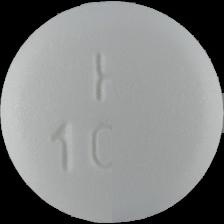64725-0102: (0, 0, 224, 224)
